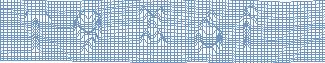6: (190, 9, 226, 55)
9: (72, 9, 104, 57)
T: (23, 10, 53, 54)
X: (135, 6, 168, 48)
f: (236, 5, 259, 53)
